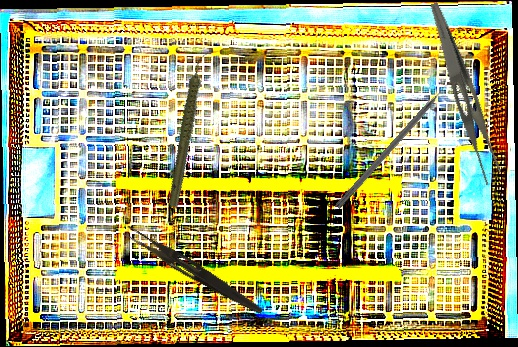Dressing Forceps: (409, 1, 513, 187), (119, 224, 268, 317)
Handpiece: (137, 50, 241, 211)
Hook Surgical: (334, 79, 455, 211)
